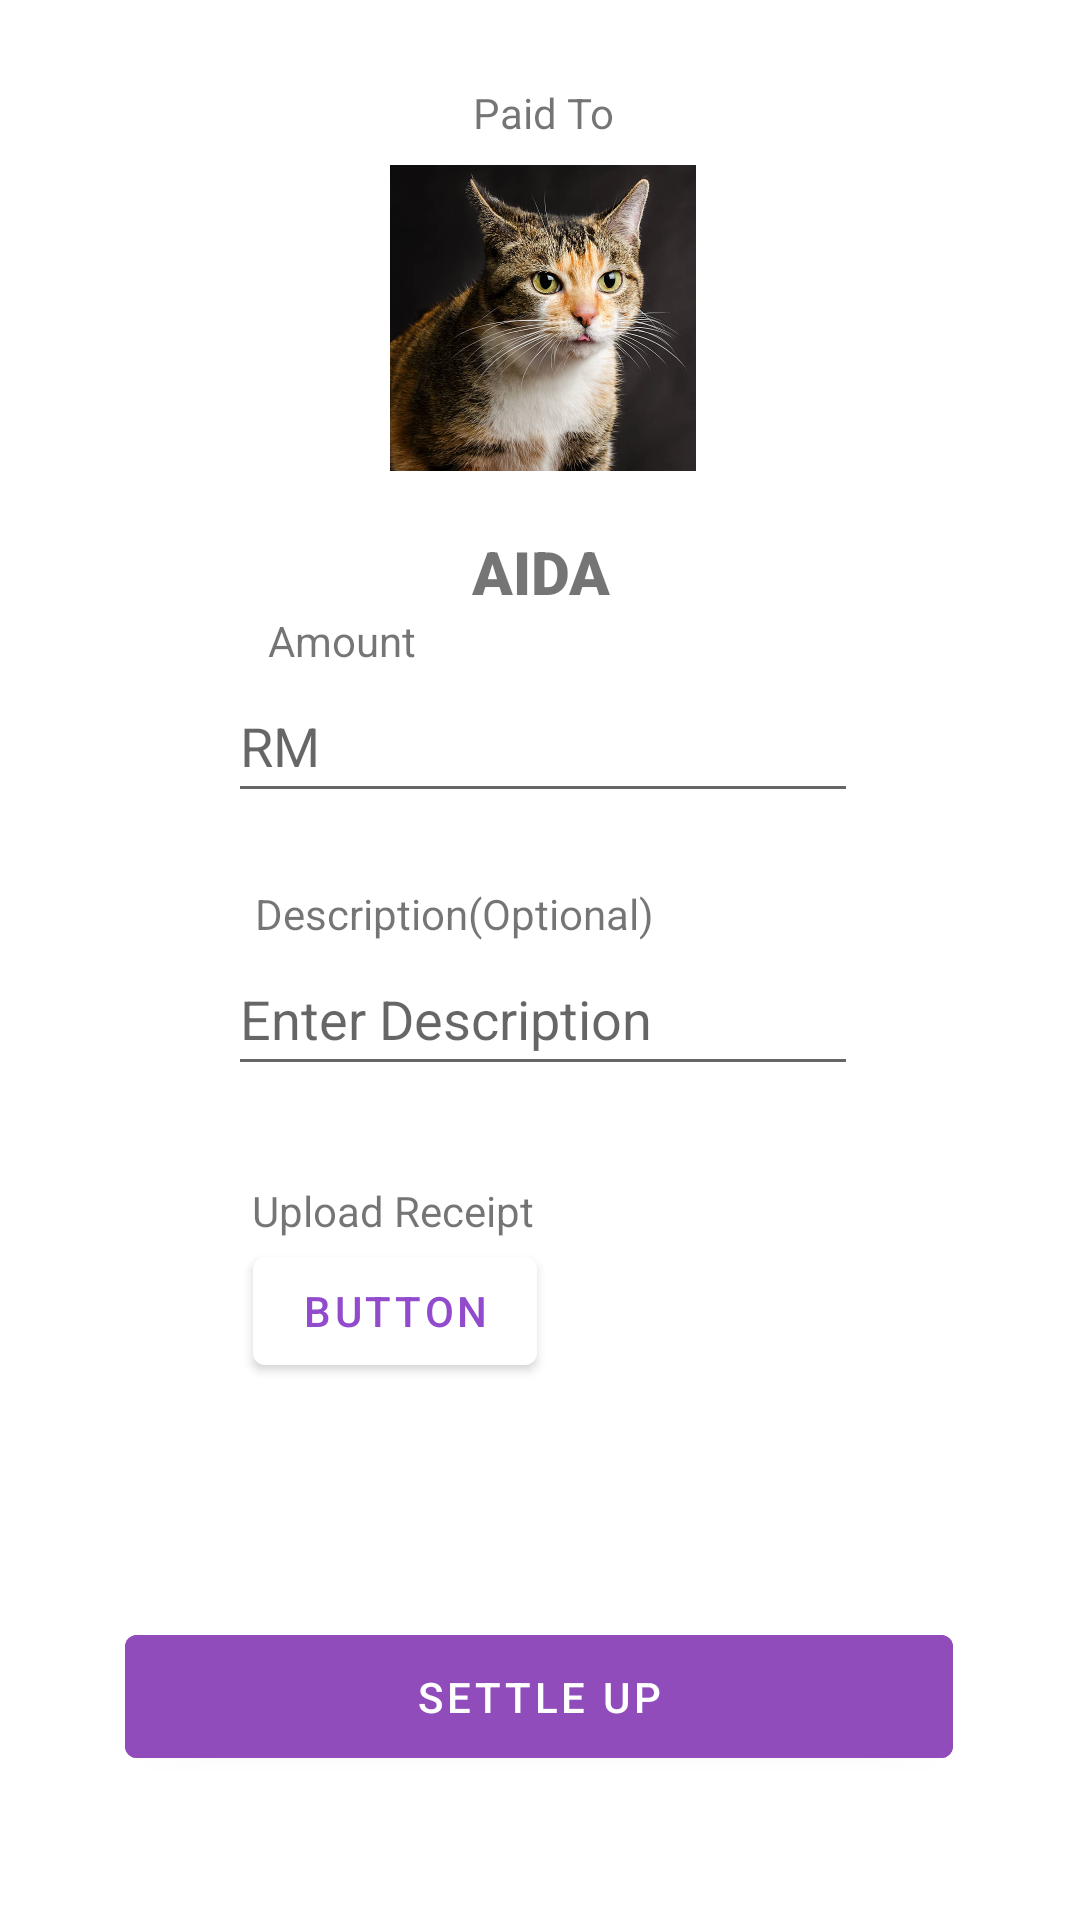

Locate icon controls on the screen. Image size 1080px x 1920px, boxes as (x1, y1, x2, y2).
cat: (390, 165, 696, 471)
